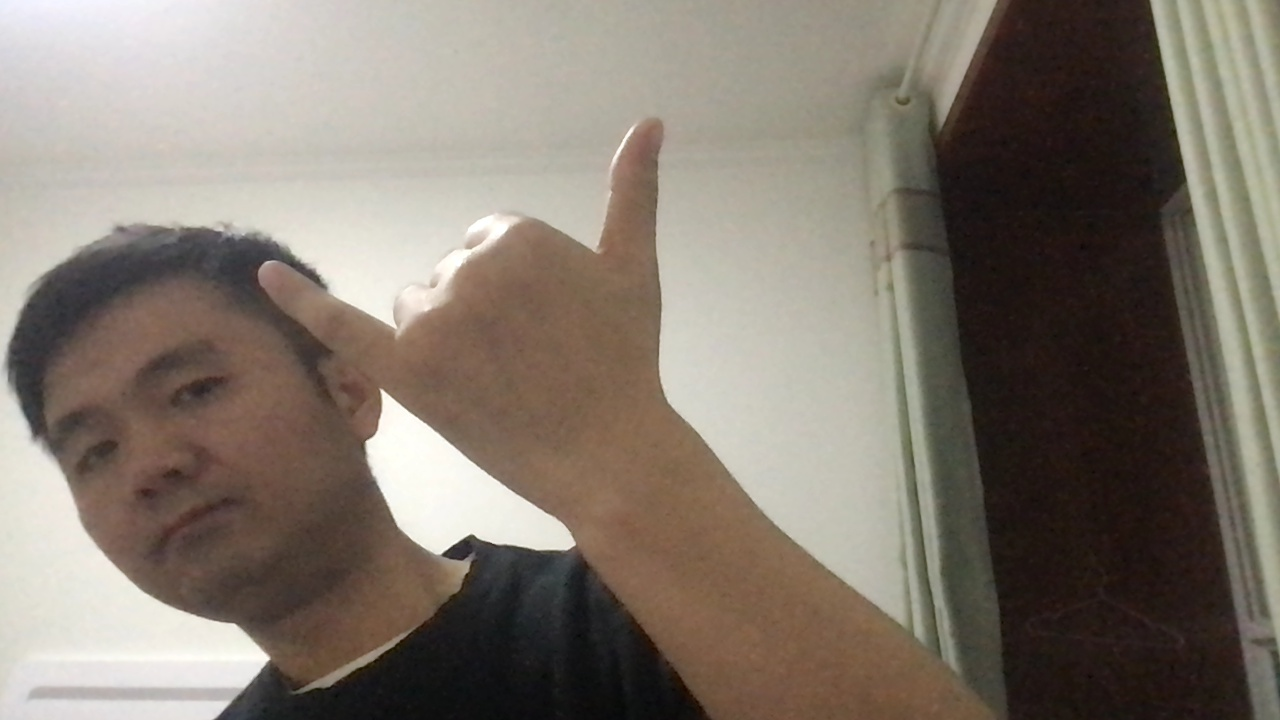iloveyou: (222, 109, 731, 487)
